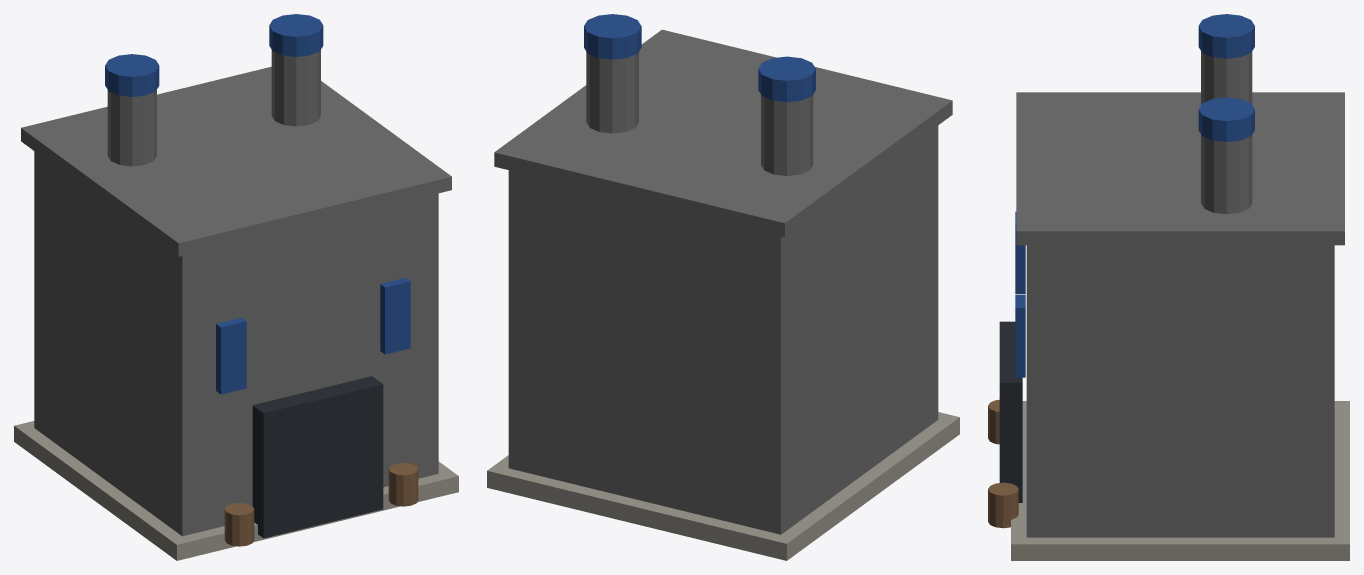
File: bld_industrial_a08_lod1.glb
3 views of the same model, side by side, from view 1: azimuth 30°, elevation 25°; view 2: azimuth 150°, elevation 25°; view 3: azimuth 270°, elevation 25° (orthographic). The views are drawn at different scales.
Parts seen in each view (by area): view 1: body; view 2: body; view 3: body.
Boxes of the visible parts, x1,y1,x2,y2 form: body: (14, 14, 458, 560); body: (487, 14, 959, 560); body: (988, 14, 1349, 560).
Size of the model in its own units: 6.6 by 9.06 by 7.05.
